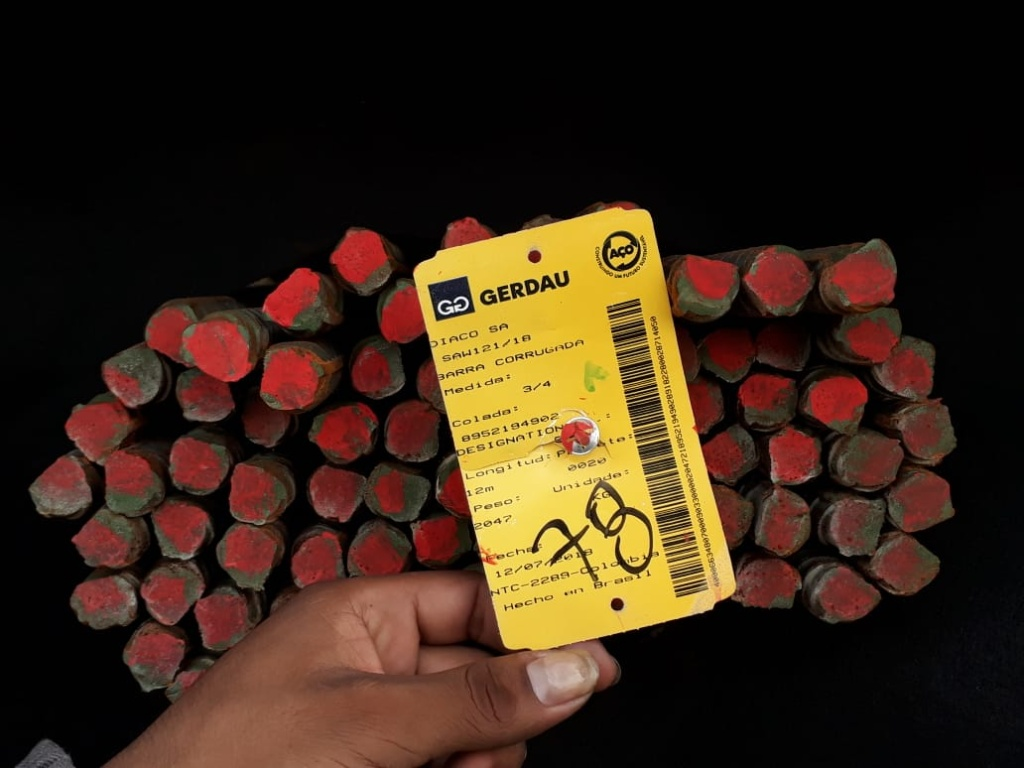dipstick: (824, 239, 896, 306), (745, 245, 812, 316), (184, 316, 251, 380), (309, 404, 379, 463), (262, 268, 327, 330), (217, 524, 276, 592), (67, 401, 130, 462), (873, 535, 940, 592), (674, 256, 739, 314), (142, 565, 203, 626), (28, 456, 90, 516), (890, 472, 952, 532), (876, 335, 935, 398), (803, 377, 868, 434), (756, 488, 812, 553), (333, 230, 391, 292), (366, 466, 430, 522), (262, 347, 320, 408), (814, 567, 880, 620), (73, 508, 132, 567), (836, 307, 901, 360), (230, 465, 289, 523), (70, 577, 135, 629), (701, 424, 757, 484), (385, 401, 440, 462), (413, 517, 475, 571), (106, 451, 159, 514), (152, 501, 209, 559), (170, 439, 229, 495), (196, 588, 250, 649), (351, 337, 405, 398), (129, 633, 186, 690), (102, 352, 162, 406), (349, 525, 411, 577), (899, 403, 954, 460), (310, 467, 366, 522), (768, 428, 822, 485), (832, 499, 886, 555), (735, 558, 795, 608), (146, 308, 195, 368), (379, 283, 428, 343), (741, 376, 798, 426), (699, 331, 755, 381), (844, 435, 901, 484), (178, 372, 235, 420), (292, 533, 344, 585), (755, 322, 810, 370), (712, 484, 753, 547), (437, 452, 472, 516), (245, 400, 291, 446), (686, 381, 723, 433), (443, 218, 491, 247)
